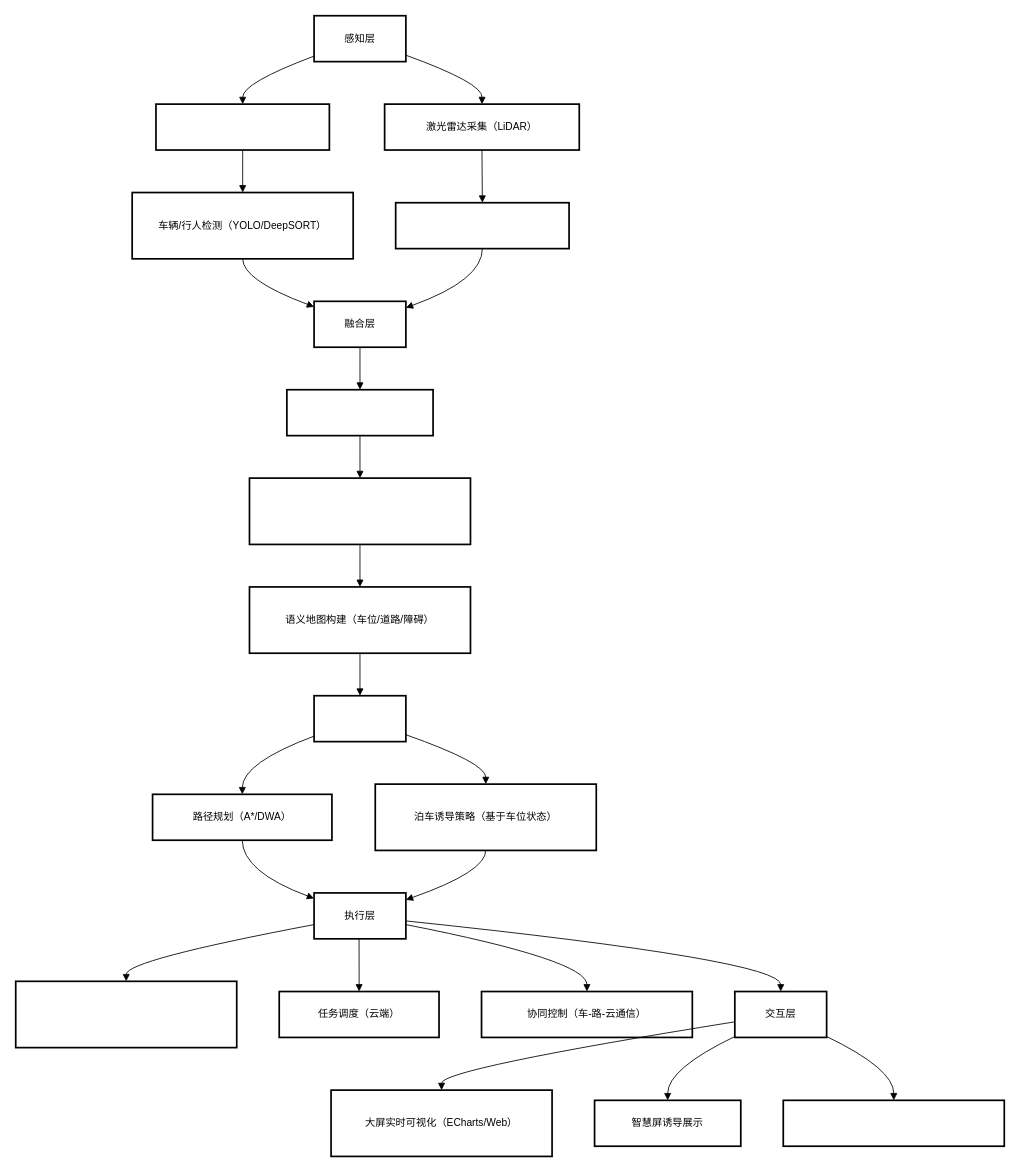
Image size: 1019x1171. Some labels were removed from this diagram. Here are the shapes that lost their labels. From the top down, the centre of each, then its label:
At pixel 242 126: "图像采集（摄像头）".
At pixel 482 225: "点云聚类与空间建模".
At pixel 360 412: "图像与点云融合".
At pixel 359 511: "空车位识别（RANSAC+深度学习）".
At pixel 359 718: "决策层".
At pixel 125 1014: "车端控制（MPC/Pure Pursuit）".
At pixel 893 1123: "用户召唤交互（AVP移动端）".
